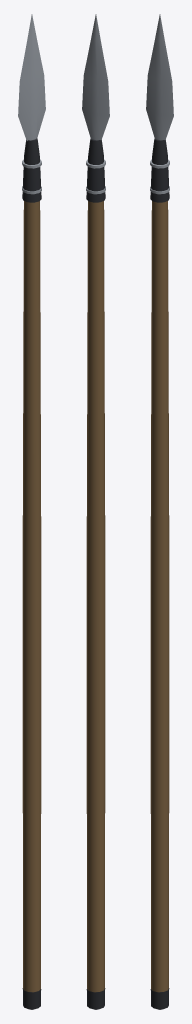
The model's file is spear.glb.
The picture shows the model from 3 angles, left to right: view 1: azimuth 30°, elevation 25°; view 2: azimuth 150°, elevation 25°; view 3: azimuth 330°, elevation 25°; orthographic projection.
Parts seen in each view (by area): view 1: spear_wood, spear_steel, spear_iron; view 2: spear_wood, spear_steel, spear_iron; view 3: spear_wood, spear_steel, spear_iron.
Part boxes in pixels (<box>): spear_wood: <box>22,201,41,992</box>; spear_steel: <box>18,14,45,194</box>; spear_iron: <box>22,138,41,1009</box>; spear_wood: <box>86,201,105,992</box>; spear_steel: <box>82,14,109,194</box>; spear_iron: <box>86,138,105,1009</box>; spear_wood: <box>150,201,169,992</box>; spear_steel: <box>146,14,173,194</box>; spear_iron: <box>150,138,169,1009</box>.
Bounding box in the file's own units: 0.068 × 2.32 × 0.0409.
